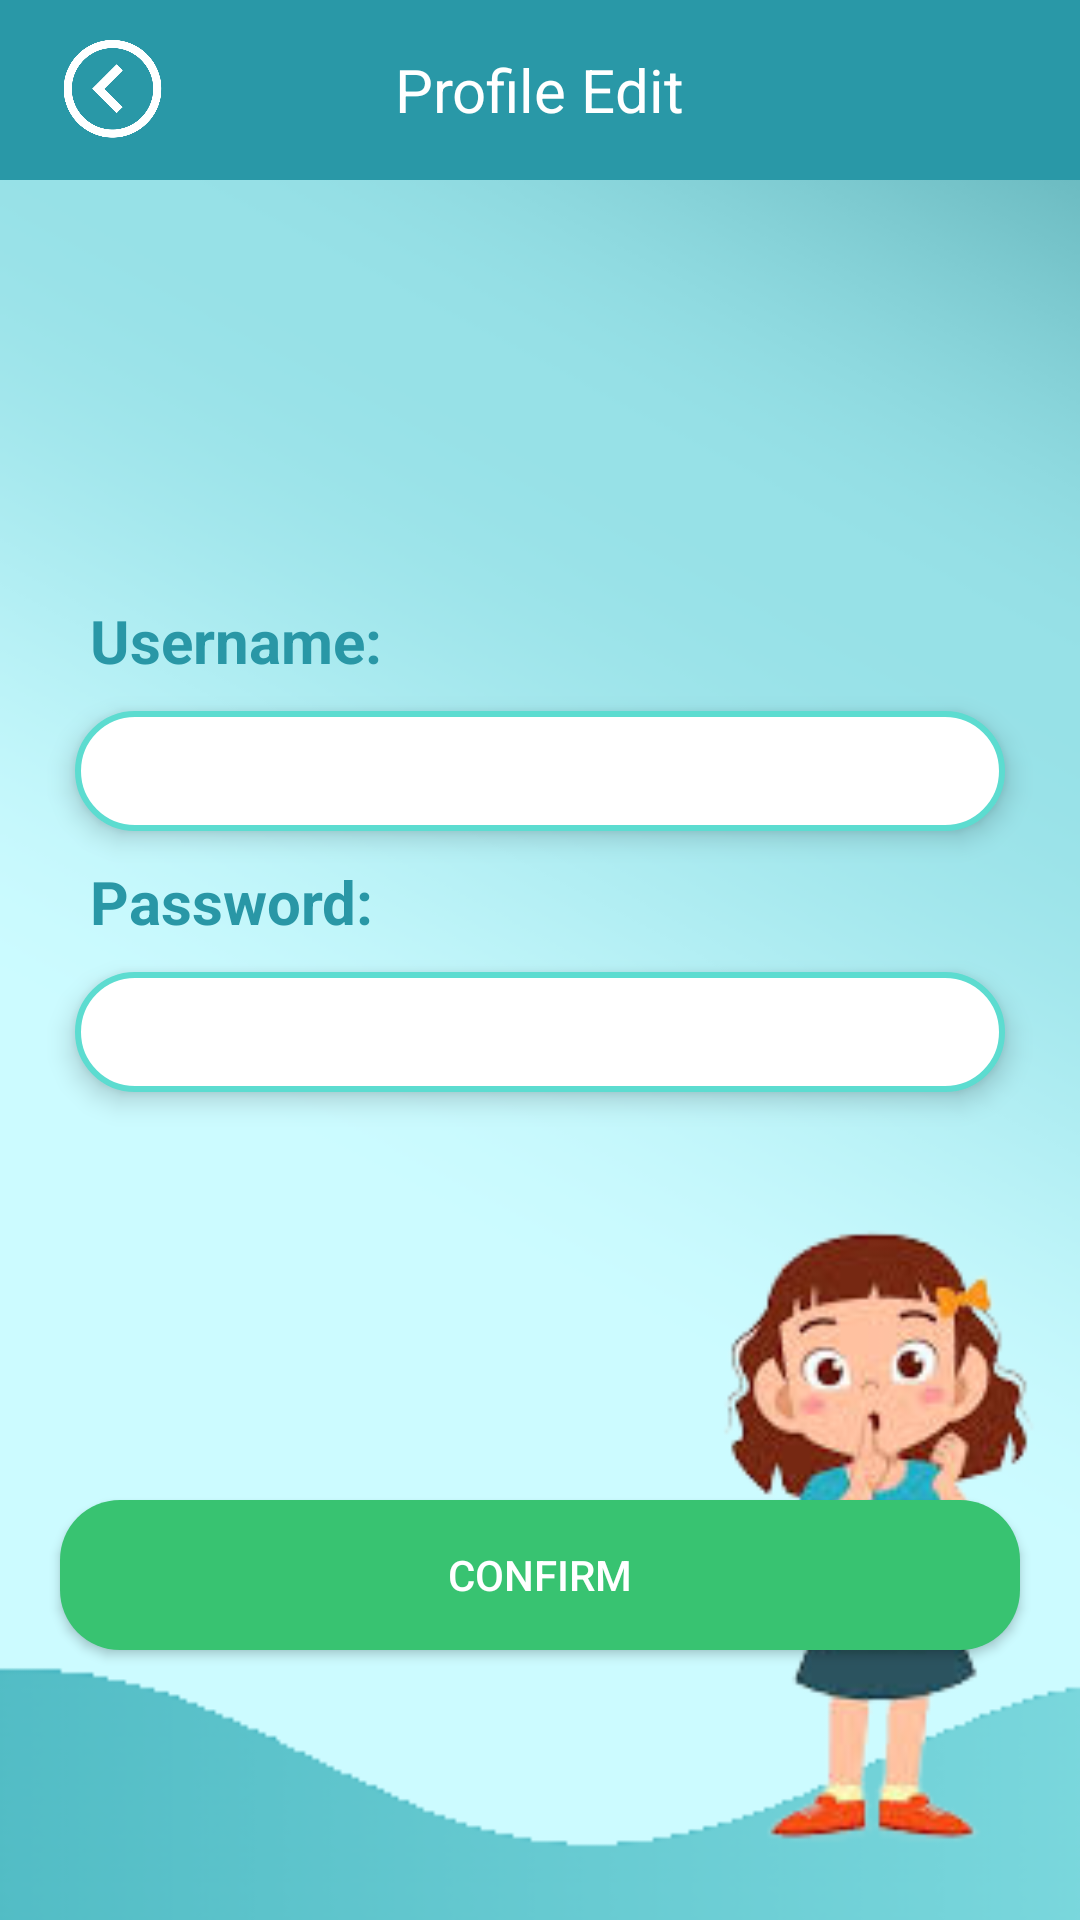

Screen size 1080x1920. Icon name, then its center in pixels as (x,y):
back: (113,89)
